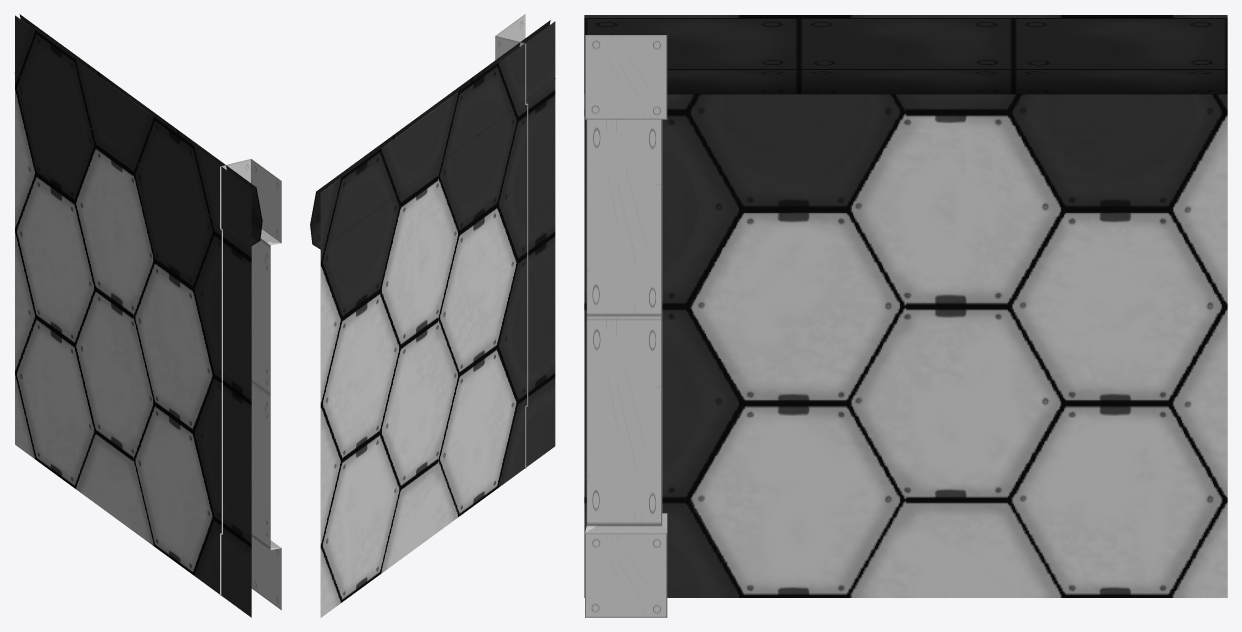
Rendered from Wall_TopLeft.fbx.
3 views of the same model, side by side, from view 1: azimuth 30°, elevation 25°; view 2: azimuth 150°, elevation 25°; view 3: azimuth 270°, elevation 25° (orthographic). The views are drawn at different scales.
Visible parts, largest first — view 1: pPlane140; view 2: pPlane140; view 3: pPlane140.
Boxes of the visible parts, x1=… form: pPlane140: x1=15, y1=14, x2=281, y2=617; pPlane140: x1=310, y1=14, x2=555, y2=617; pPlane140: x1=584, y1=15, x2=1227, y2=617.
Size of the model in its own units: 0.1534 by 2 by 2.
